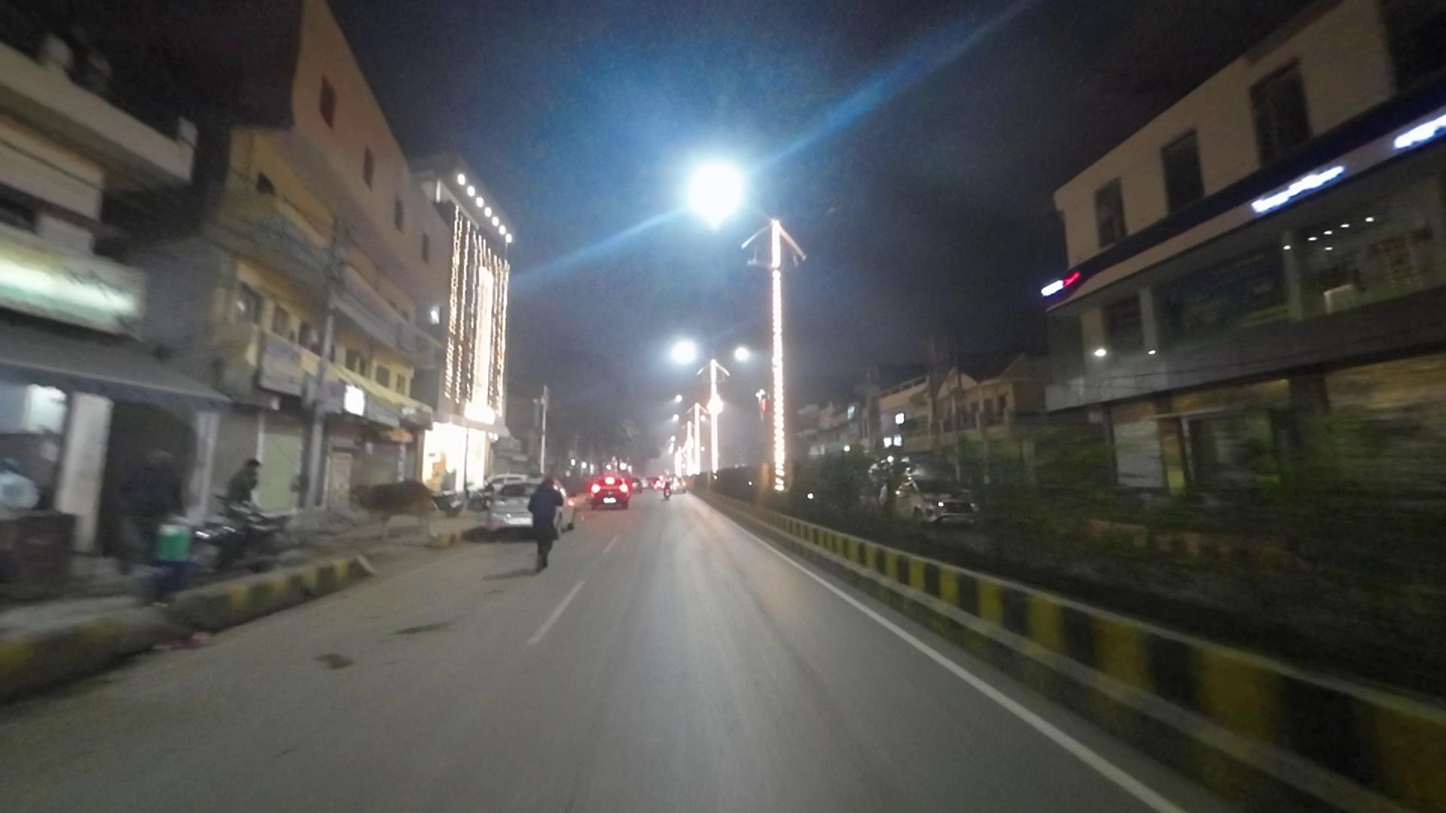streetlight: (784, 204, 838, 222)
